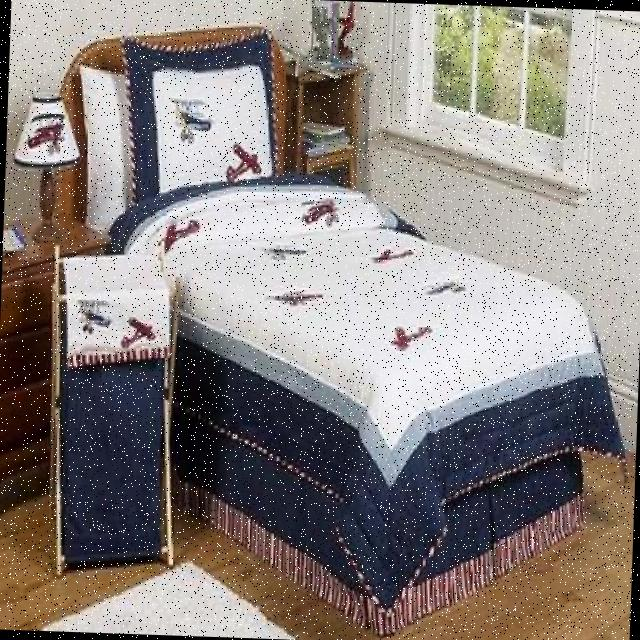Bed: (2, 24, 640, 635)
